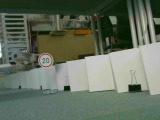speed_20: (37, 52, 53, 68)
